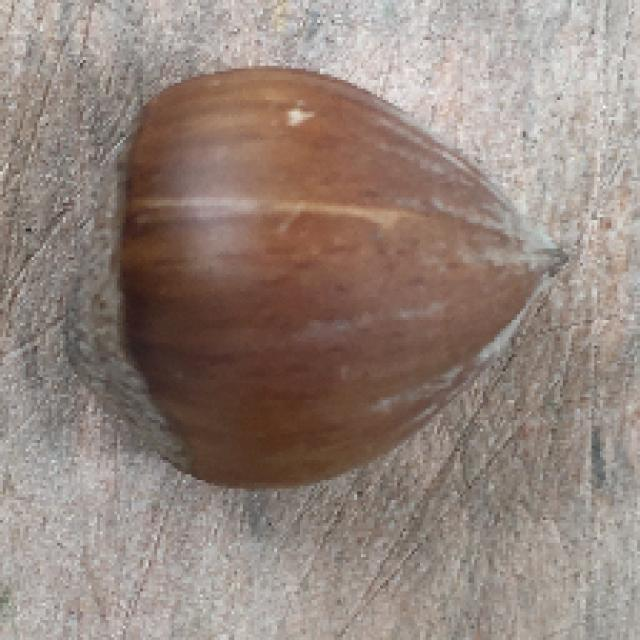qualityHazelnut: (62, 62, 563, 489)
